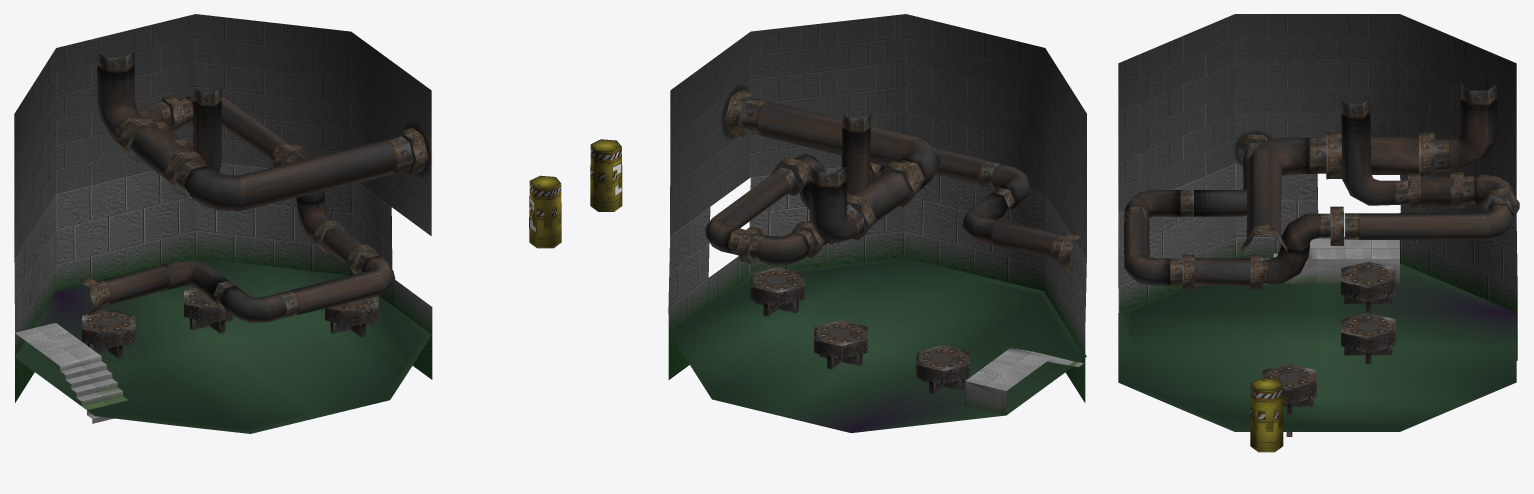
File: room_13.glb
The picture shows the model from 3 angles, left to right: view 1: azimuth 30°, elevation 25°; view 2: azimuth 150°, elevation 25°; view 3: azimuth 270°, elevation 25°; orthographic projection. The views are drawn at different scales.
Parts seen in each view (by area): view 1: wall, paint, pipes_C_LargePipe1Elbow2, LargePipe1Elbow2 (×2), floor, PaintMixerTop (×3), pipes_C_LargePipe1Elbow1, gagTank1 (×2), pipes_C_SmallPipe1Elbow1, LargePipe1Elbow1, LargePipe1Elbow4, pipes_C_LargeStraightPipe1 (+6 smaller); view 2: wall, paint, pipes_C_LargePipe1Elbow2, PaintMixerTop (×3), LargePipe1Elbow2 (×2), pipes_C_LargePipe1Elbow1, gagTank1 (×2), floor, pipes_C_SmallPipe1Elbow1, LargePipe1Elbow4, pipes_C_SmallPipe1Elbow2, pipes_C_LargeStraightPipe1 (+7 smaller); view 3: wall, paint, LargePipe1Elbow2 (×2), PaintMixerTop (×3), pipes_C_LargePipe1Elbow2, pipes_C_SmallPipe1Elbow1, pipes_C_LargePipe1Elbow1, gagTank1 (×2), pipes_C_LargeStraightPipe1, floor, LargeStraightPipe1, LargePipe1Elbow1 (+11 smaller).
Part boxes in pixels (bbox=[...]): wall: bbox=[14, 14, 432, 402]; paint: bbox=[14, 257, 431, 433]; pipes_C_LargePipe1Elbow2: bbox=[176, 136, 413, 211]; LargePipe1Elbow2 (×2): bbox=[177, 95, 395, 317]; floor: bbox=[15, 323, 127, 423]; PaintMixerTop (×3): bbox=[82, 288, 378, 348]; pipes_C_LargePipe1Elbow1: bbox=[97, 51, 141, 145]; gagTank1 (×2): bbox=[529, 175, 561, 248]; pipes_C_SmallPipe1Elbow1: bbox=[186, 87, 221, 172]; LargePipe1Elbow1: bbox=[213, 281, 287, 322]; LargePipe1Elbow4: bbox=[96, 265, 170, 306]; pipes_C_LargeStraightPipe1: bbox=[130, 126, 187, 180]; wall: bbox=[668, 14, 1086, 402]; paint: bbox=[670, 257, 1086, 432]; pipes_C_LargePipe1Elbow2: bbox=[741, 98, 940, 190]; PaintMixerTop (×3): bbox=[750, 267, 969, 384]; LargePipe1Elbow2 (×2): bbox=[705, 147, 999, 255]; pipes_C_LargePipe1Elbow1: bbox=[809, 166, 863, 243]; gagTank1 (×2): bbox=[590, 139, 622, 211]; floor: bbox=[965, 347, 1083, 390]; pipes_C_SmallPipe1Elbow1: bbox=[842, 114, 870, 194]; LargePipe1Elbow4: bbox=[991, 221, 1066, 261]; pipes_C_SmallPipe1Elbow2: bbox=[749, 229, 815, 265]; pipes_C_LargeStraightPipe1: bbox=[852, 171, 909, 224]; wall: bbox=[1118, 14, 1517, 360]; paint: bbox=[1118, 263, 1516, 431]; LargePipe1Elbow2 (×2): bbox=[1124, 198, 1513, 285]; PaintMixerTop (×3): bbox=[1262, 261, 1395, 403]; pipes_C_LargePipe1Elbow2: bbox=[1246, 137, 1326, 247]; pipes_C_SmallPipe1Elbow1: bbox=[1341, 99, 1408, 205]; pipes_C_LargePipe1Elbow1: bbox=[1434, 84, 1496, 170]; gagTank1 (×2): bbox=[1250, 378, 1283, 452]; pipes_C_LargeStraightPipe1: bbox=[1370, 137, 1418, 174]; floor: bbox=[1263, 238, 1399, 268]; LargeStraightPipe1: bbox=[1194, 258, 1251, 285]; LargePipe1Elbow1: bbox=[1124, 190, 1193, 217].
Size of the model in its own units: 103 by 59.88 by 72.98.
Materials: 15 (14 with a texture image).
